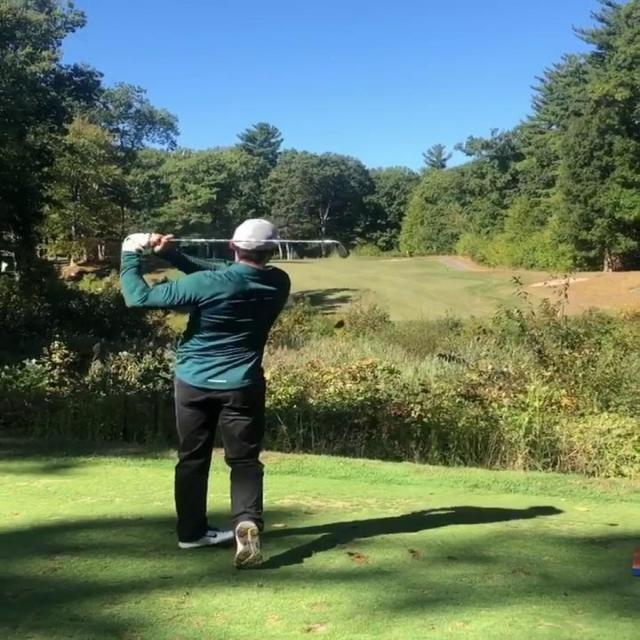ClubHead: (330, 240, 350, 256)
